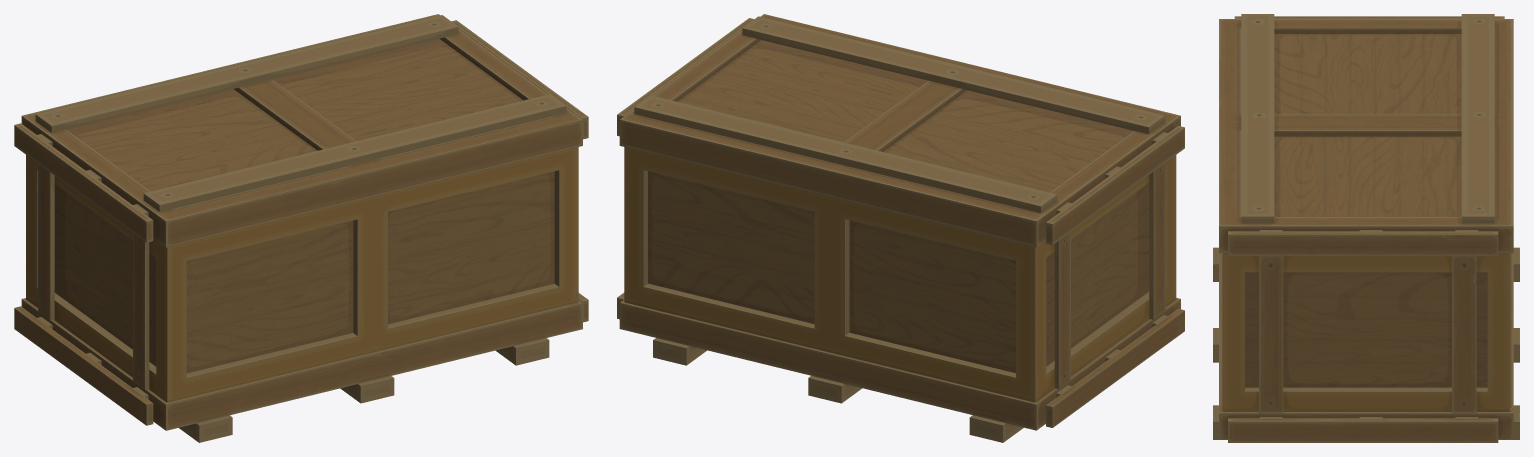
The model's file is SM_wooden_box_04.glb.
3 views of the same model, side by side, from view 1: azimuth 30°, elevation 25°; view 2: azimuth 150°, elevation 25°; view 3: azimuth 270°, elevation 25° (orthographic). The views are drawn at different scales.
Parts seen in each view (by area): view 1: SM_wooden_box_04; view 2: SM_wooden_box_04; view 3: SM_wooden_box_04.
Boxes of the visible parts, x1=… form: SM_wooden_box_04: x1=14, y1=14, x2=588, y2=442; SM_wooden_box_04: x1=617, y1=14, x2=1184, y2=442; SM_wooden_box_04: x1=1213, y1=14, x2=1519, y2=442.
Size of the model in its own units: 2.63 by 1.34 by 1.56.
Materials: 1 (1 with a texture image).
